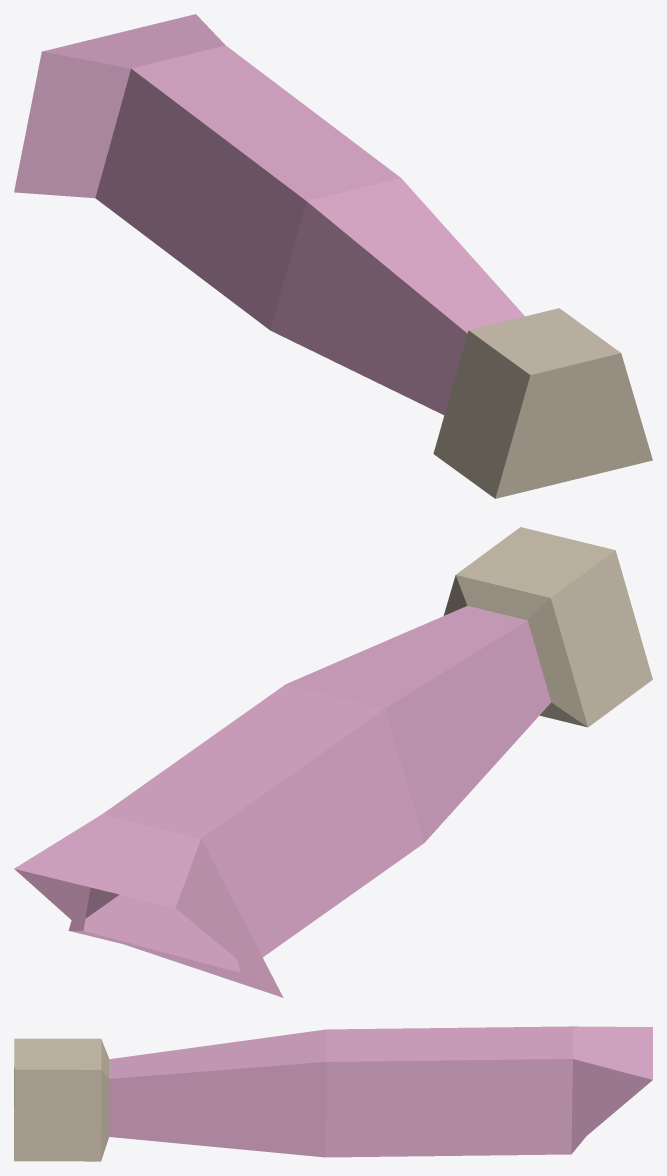
Rendered from LeftHand.glb.
The picture shows the model from 3 angles, top to bottom: view 1: azimuth 30°, elevation 25°; view 2: azimuth 150°, elevation 25°; view 3: azimuth 270°, elevation 25°; orthographic projection. The views are drawn at different scales.
Parts seen in each view (by area): view 1: LeftHand; view 2: LeftHand; view 3: LeftHand.
Boxes of the visible parts, x1,y1,x2,y2 form: LeftHand: [14, 14, 652, 498]; LeftHand: [14, 527, 652, 997]; LeftHand: [14, 1026, 652, 1161].
Size of the model in its own units: 0.728 by 0.4058 by 2.54.
Materials: 1 (1 with a texture image).
